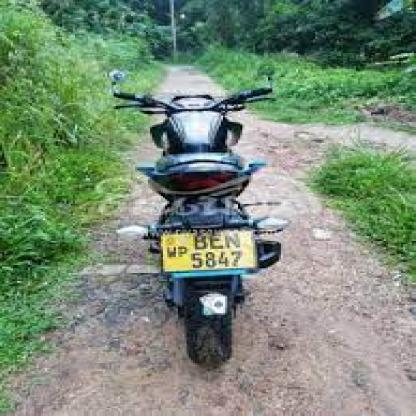bike back: (100, 70, 302, 371)
number plate: (162, 230, 250, 268)
